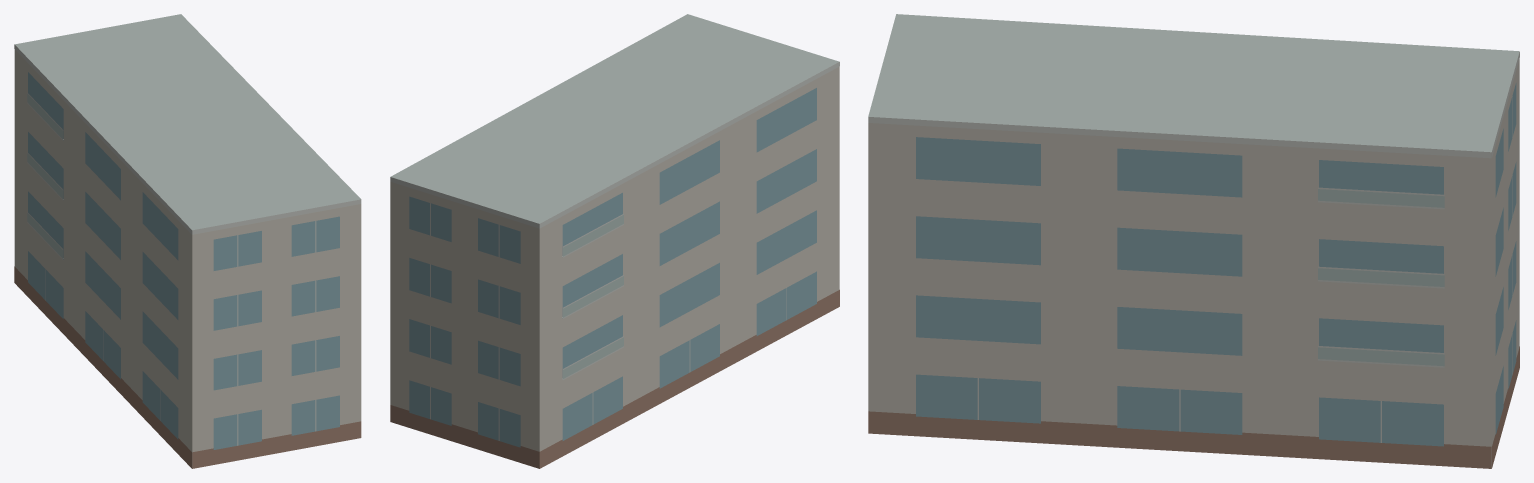
File: survey-upis-32655994.glb
The picture shows the model from 3 angles, left to right: view 1: azimuth 30°, elevation 25°; view 2: azimuth 150°, elevation 25°; view 3: azimuth 270°, elevation 25°; orthographic projection. The views are drawn at different scales.
Parts seen in each view (by area): view 1: survey-upis-32655994.tmp; view 2: survey-upis-32655994.tmp; view 3: survey-upis-32655994.tmp.
Part boxes in pixels (left/top/right/bottom): survey-upis-32655994.tmp: left=14, top=14, right=361, bottom=468; survey-upis-32655994.tmp: left=390, top=14, right=839, bottom=468; survey-upis-32655994.tmp: left=868, top=14, right=1519, bottom=468.
Size of the model in its own units: 11.9 by 12.7 by 23.7.
